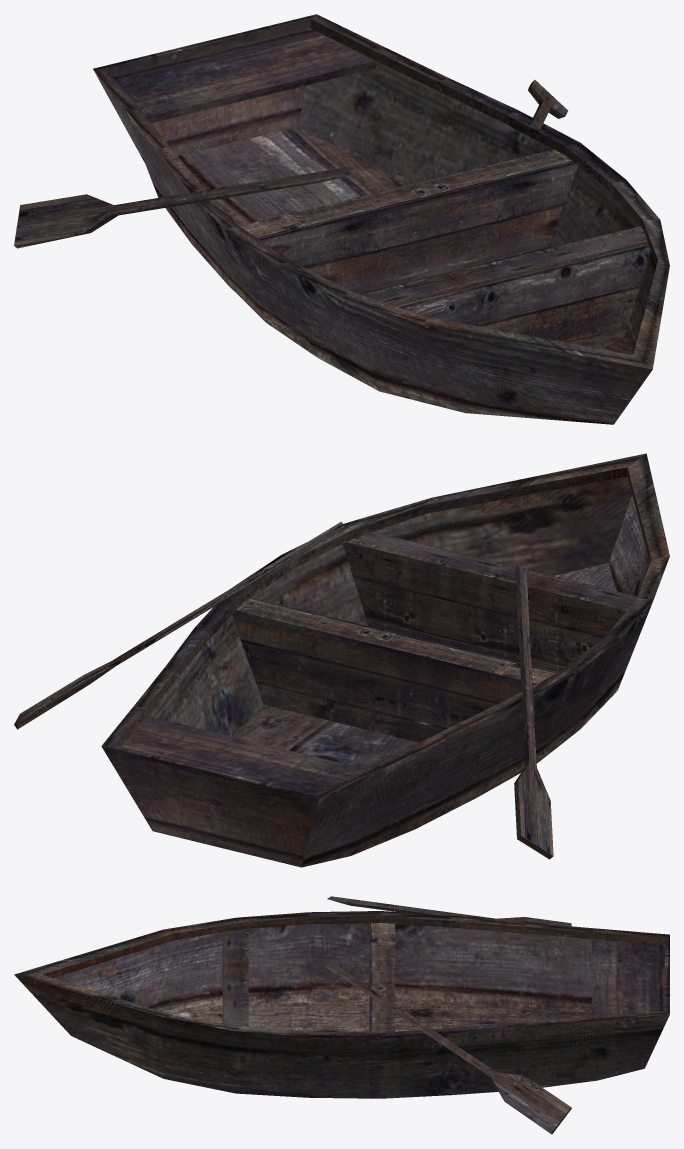
The model's file is skiff.glb.
The picture shows the model from 3 angles, top to bottom: view 1: azimuth 30°, elevation 25°; view 2: azimuth 150°, elevation 25°; view 3: azimuth 270°, elevation 25°; orthographic projection. The views are drawn at different scales.
Visible parts, largest first — view 1: LOD0; view 2: LOD0; view 3: LOD0.
Part boxes in pixels (x1,y1,x2,y2): LOD0: (14,14,669,424); LOD0: (14,453,669,867); LOD0: (14,896,669,1134).
Bounding box in the file's own units: 3.44 × 0.9985 × 4.82.
1 material, 1 textured.
